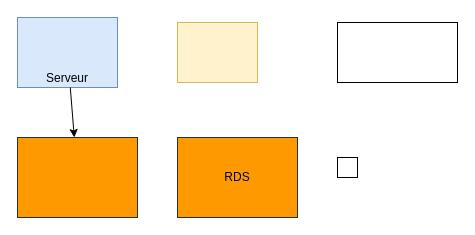
This 475x235 diagram has some shape labels left out. Here are the shapes that lost their labels. From the top down, the centre of each, then its label:
At (x=397, y=52): "Rectangle".
At (x=77, y=177): "EC2".
